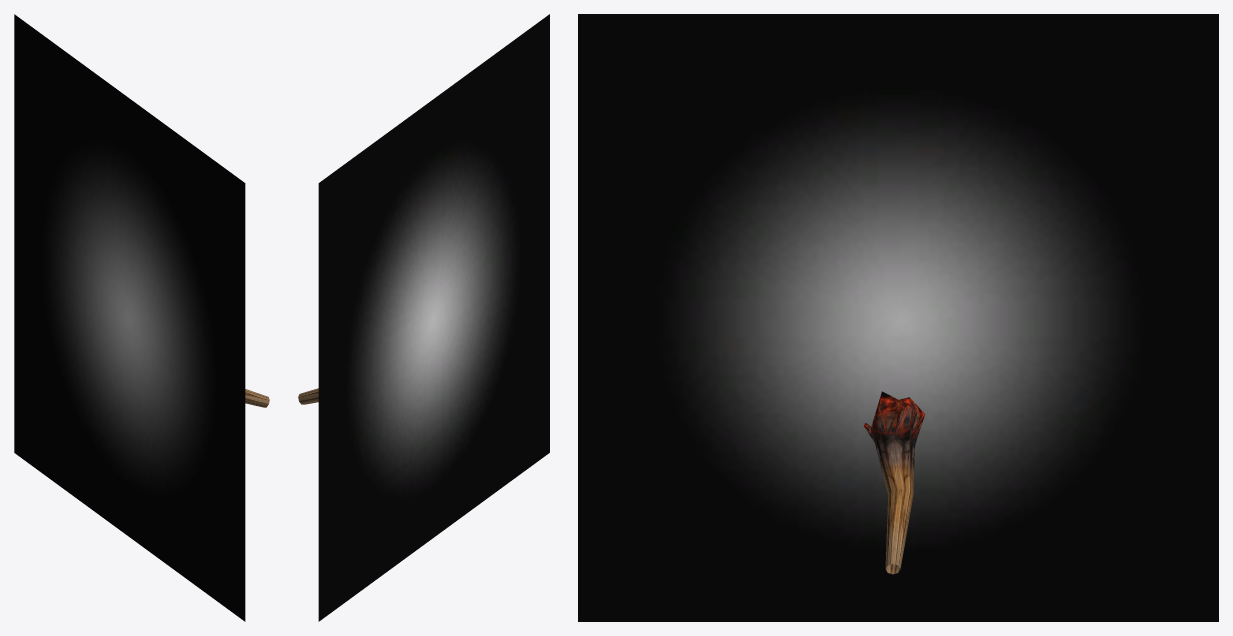
File: ogrewalltorch.obj
3 renders of one model, left to right at view 1: azimuth 30°, elevation 25°; view 2: azimuth 150°, elevation 25°; view 3: azimuth 270°, elevation 25°, orthographic. The views are drawn at different scales.
Visible parts, largest first — view 1: Geoset0; view 2: Geoset0; view 3: Geoset0, Geoset1.
Boxes of the visible parts, left/top/right/bottom form: Geoset0: left=14, top=14, right=245, bottom=621; Geoset0: left=318, top=14, right=549, bottom=621; Geoset0: left=578, top=14, right=1218, bottom=621; Geoset1: left=864, top=391, right=925, bottom=574.
Size of the model in its own units: 1.72 by 5.26 by 5.03.
2 materials, 2 textured.
